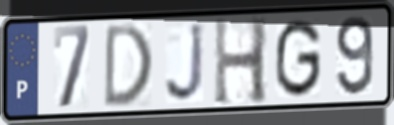7: (51, 22, 92, 113)
9: (333, 14, 376, 98)
D: (101, 20, 155, 112)
G: (272, 16, 324, 101)
H: (212, 16, 271, 109)
J: (163, 20, 207, 105)
